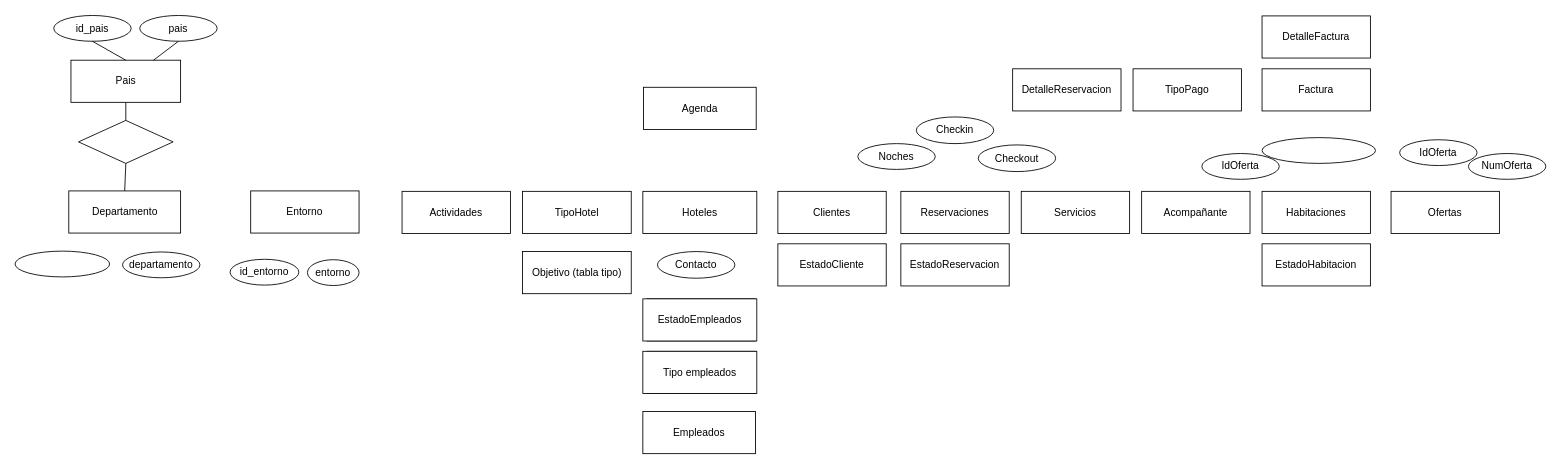
Some shapes in this 1561 by 469 pixel diagram are drawn without their labels. Here are the shapes that lost their labels. From the top down, the centre of each, then its label:
the point at 125,141: Se compone
the point at 1318,150: TotalConDescuento
the point at 62,263: id_departamento
